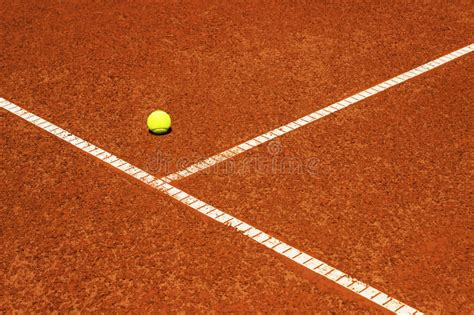tennis_ball: (147, 110, 171, 134)
